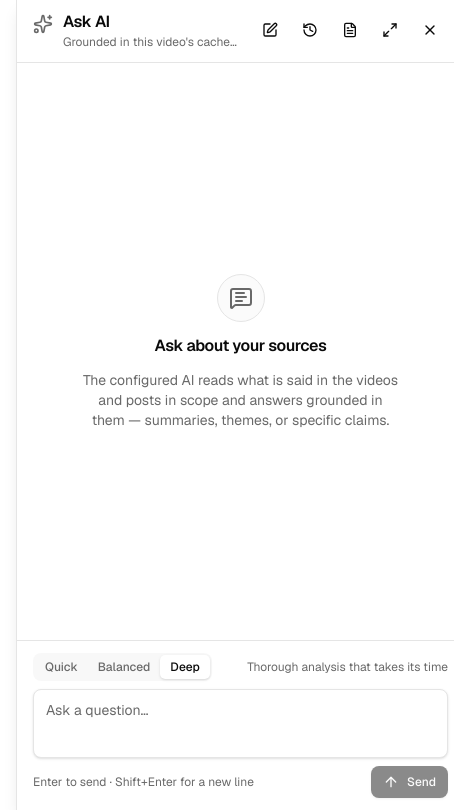
Test: ChatPanel — streaming a turn › renders transcript citations as titled source chips
Type "What claims does it make?" into the text box named "Your message".
click(240, 720); type("What claims does it make?")  # box top-left (34, 690), bottom-right (447, 750)
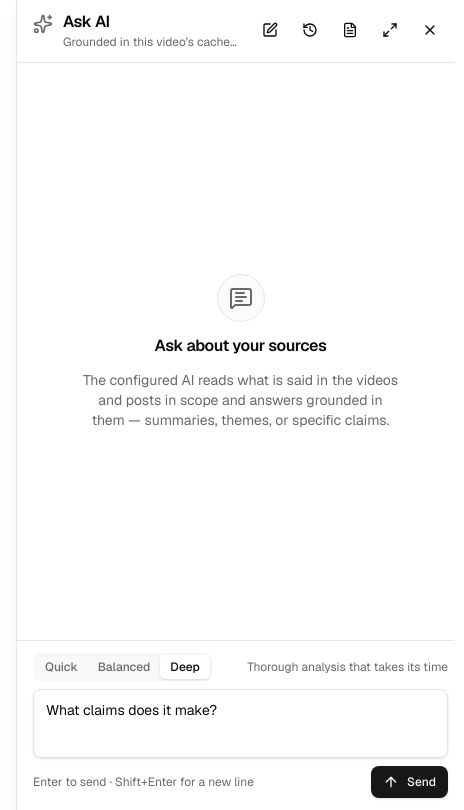
Click the button "Send".
click(410, 782)  # box top-left (371, 766), bottom-right (448, 798)
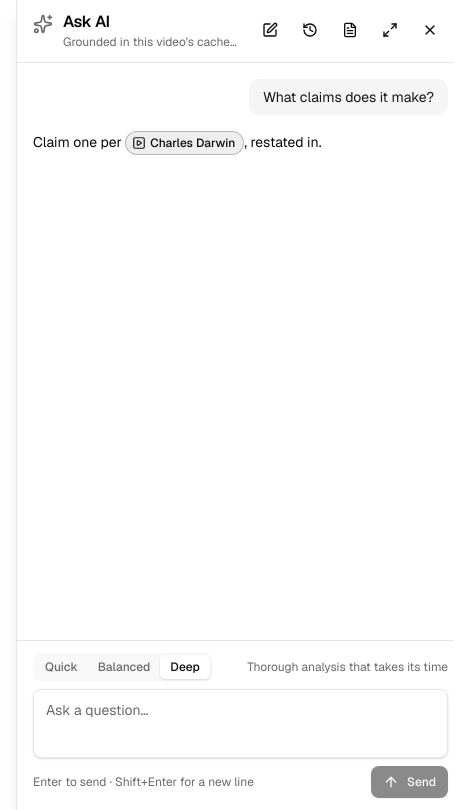
Result: the element named "Conversation" shows "restated in." at top-left (33, 79), bottom-right (448, 155)
